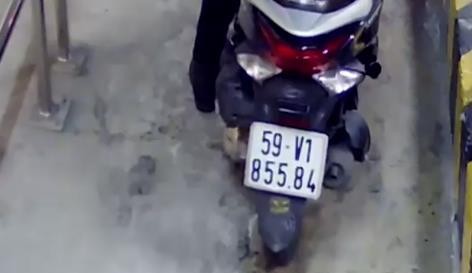lisence: (245, 121, 326, 199)
